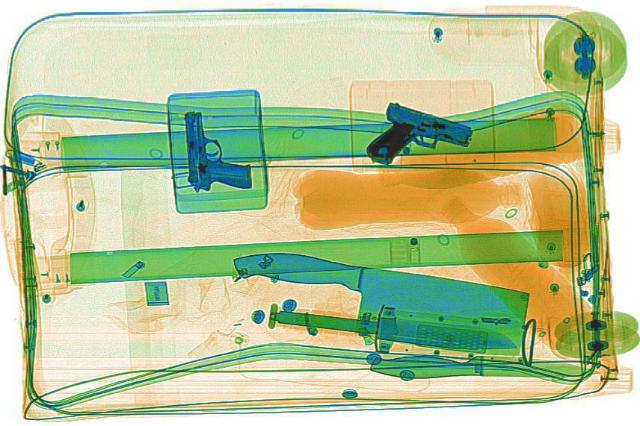Gun: (352, 101, 478, 176), (182, 110, 252, 191)
Knife: (208, 243, 544, 358), (271, 301, 523, 354), (366, 350, 596, 382)
